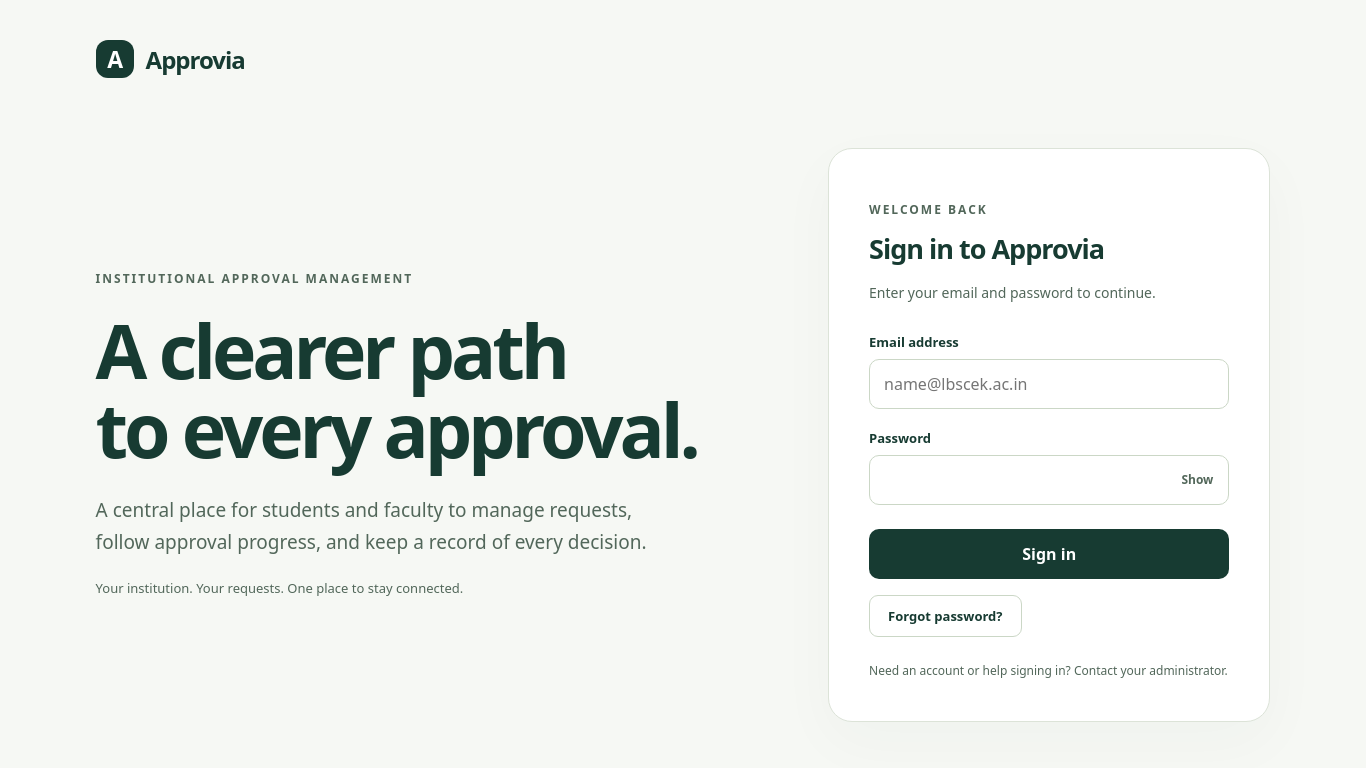
email/password authentication › shows a useful error and allows retry after invalid credentials
Expected: the button "Sign in" is shown, left=869, top=529, right=1229, bottom=579
In the field labelled "Email address": (1049, 384) left=869, top=359, right=1229, bottom=409, type "student@example.edu"
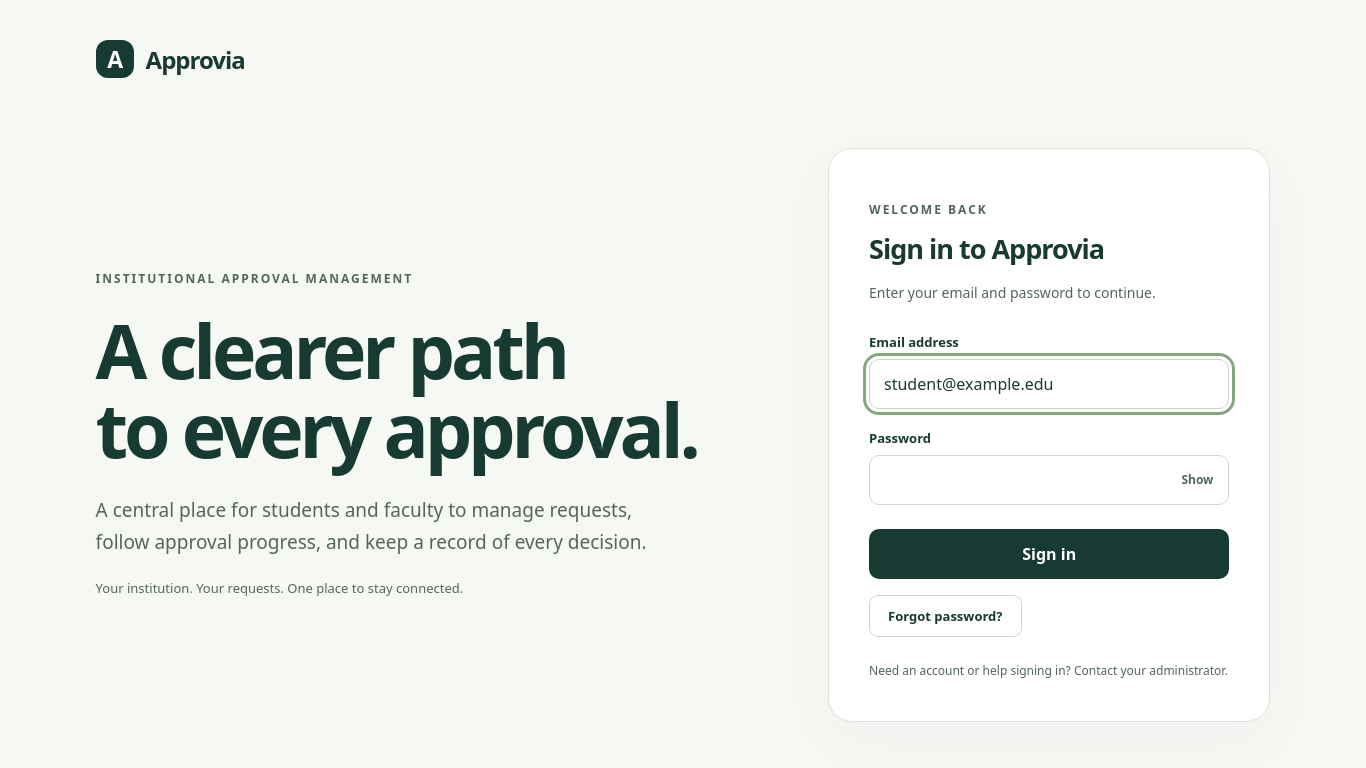
In the password field labelled "Password": (1049, 480) left=869, top=455, right=1229, bottom=505, type "example-password"
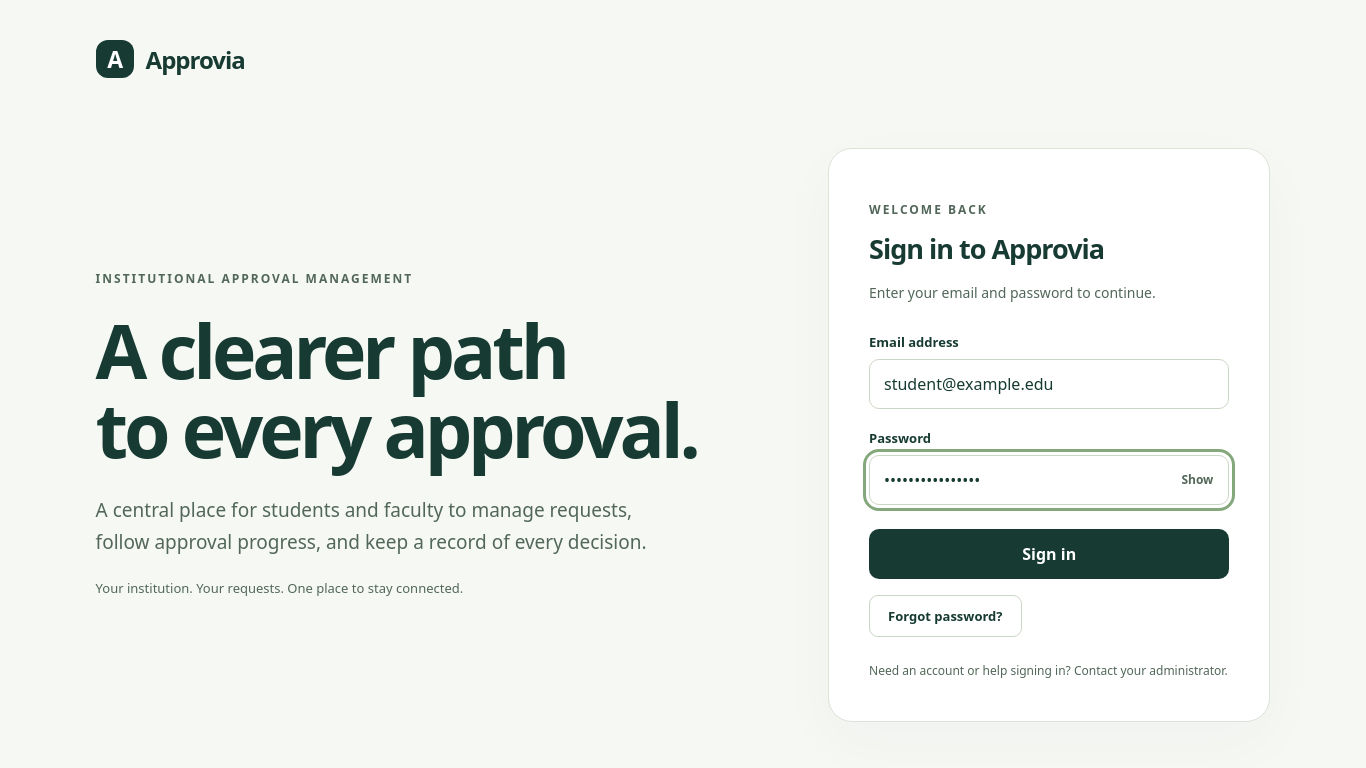
Click the button "Sign in": click(1049, 554) left=869, top=529, right=1229, bottom=579
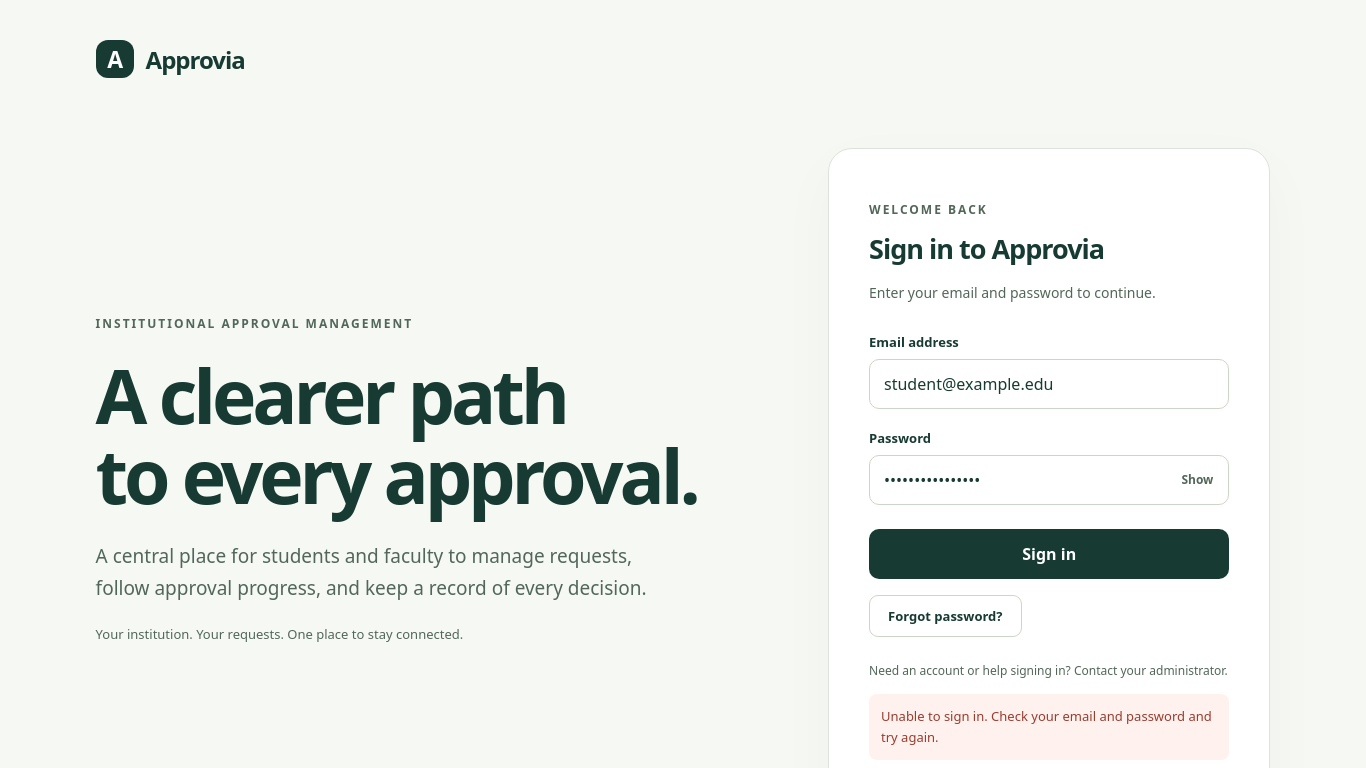
Expected: the message shows "Check your email and password", left=881, top=707, right=1212, bottom=746
